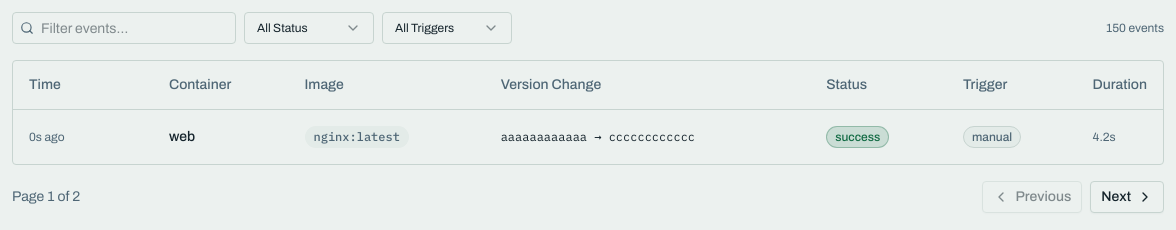
Scenario: StackUpdatesTab — pagination › pages forward and back, and disables the ends
Expected: the text "web" is shown, [169,128,195,144]
Expected: the text "Page 1 of 2" is shown, [12,186,80,206]
Click the button "Next" at (1127, 196), box [1090,180,1164,212]
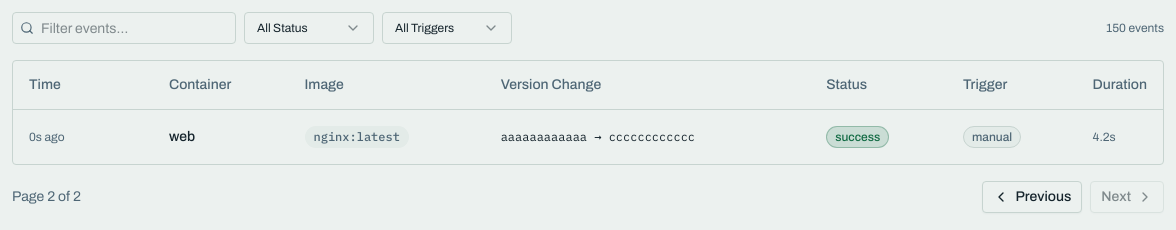
Result: the text "Page 2 of 2" is shown at [12,186,81,206]
Result: the button "Next" is disabled at [1090,180,1164,212]
Click the button "Previous" at (1032, 196), box [982,180,1082,212]
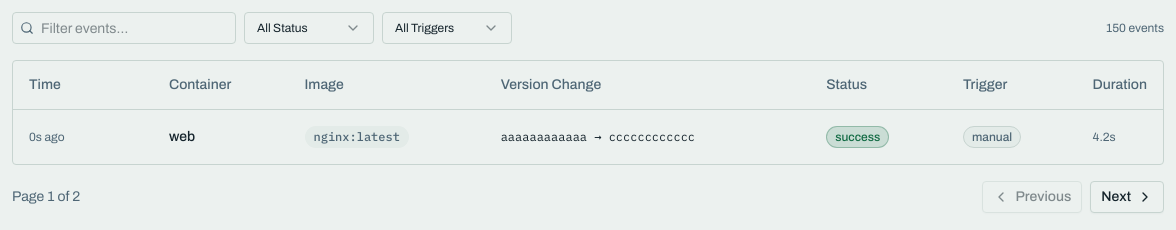
Result: the text "Page 1 of 2" is shown at [12,186,80,206]
